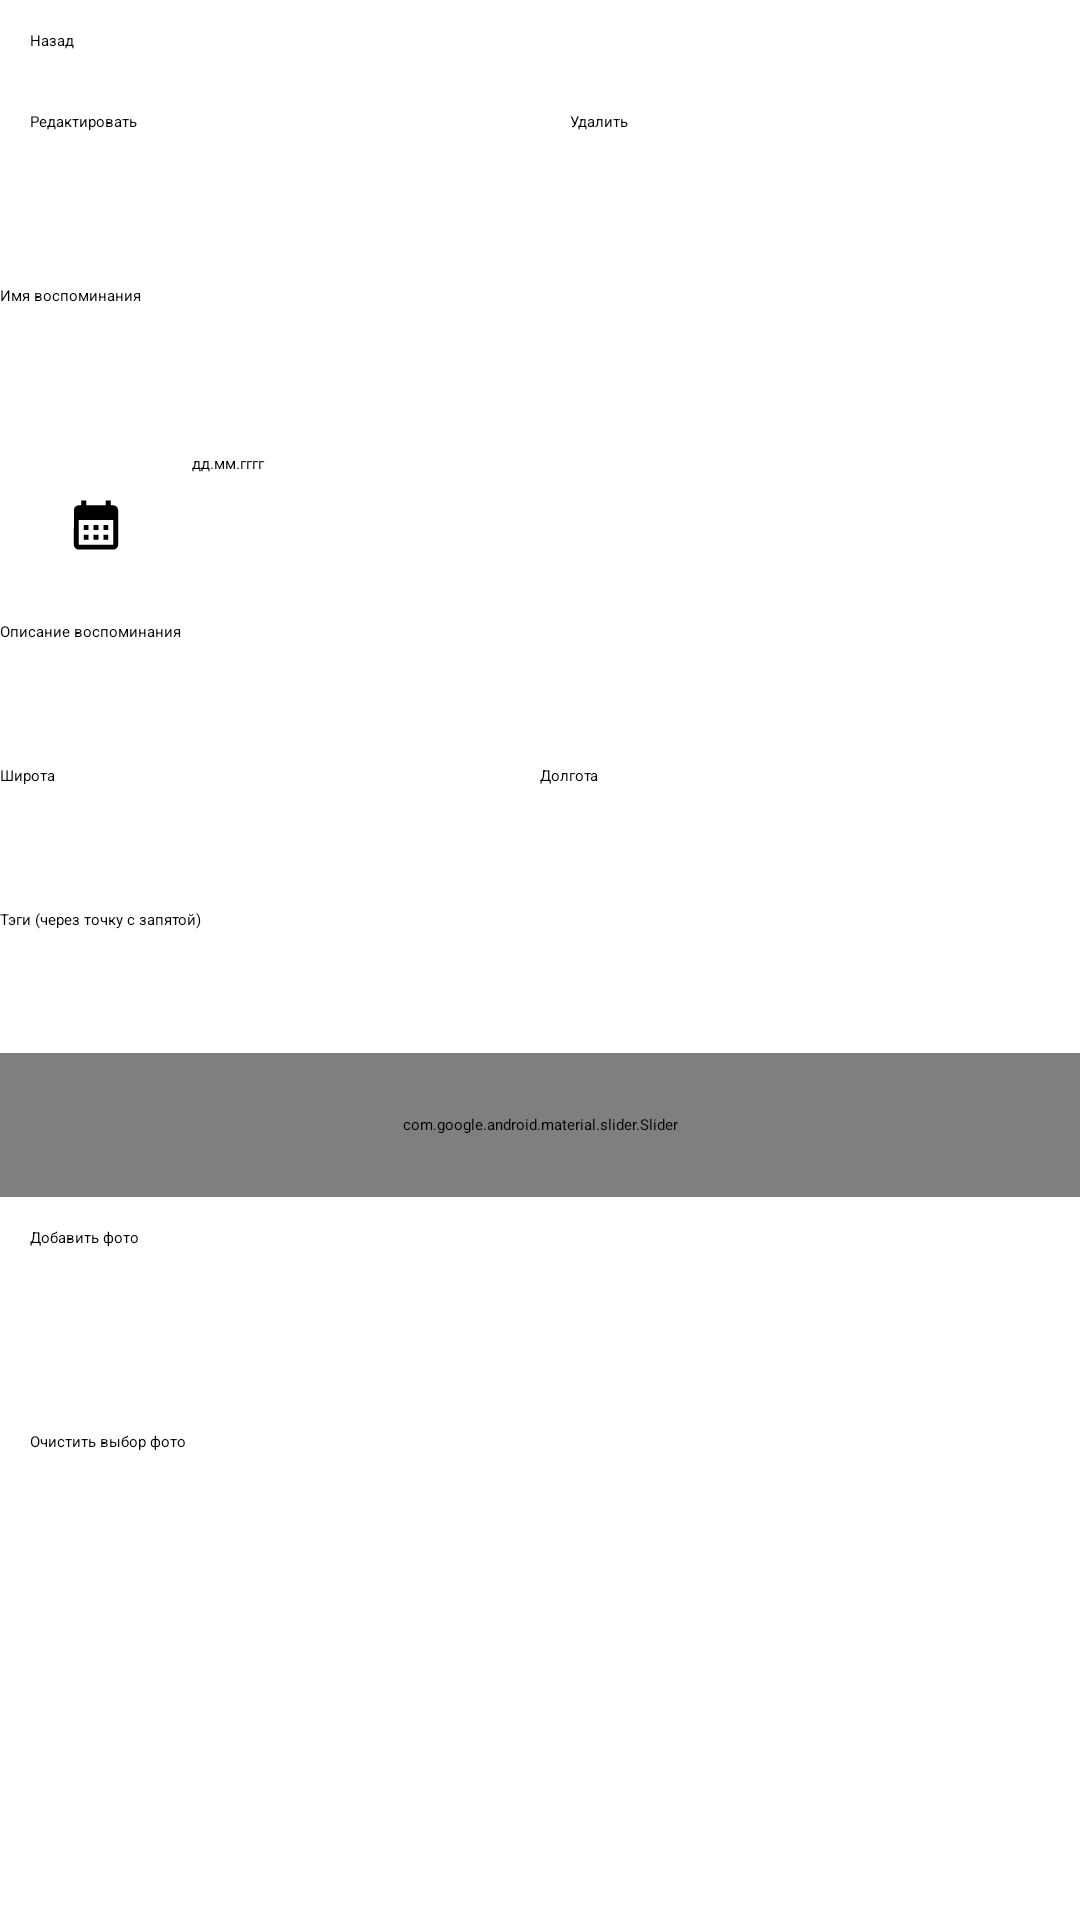

Locate icon controls on the screen. Image size 1080 x 1920, boxes as (x1, y1, x2, y2).
calendar: (73, 500, 119, 550)
